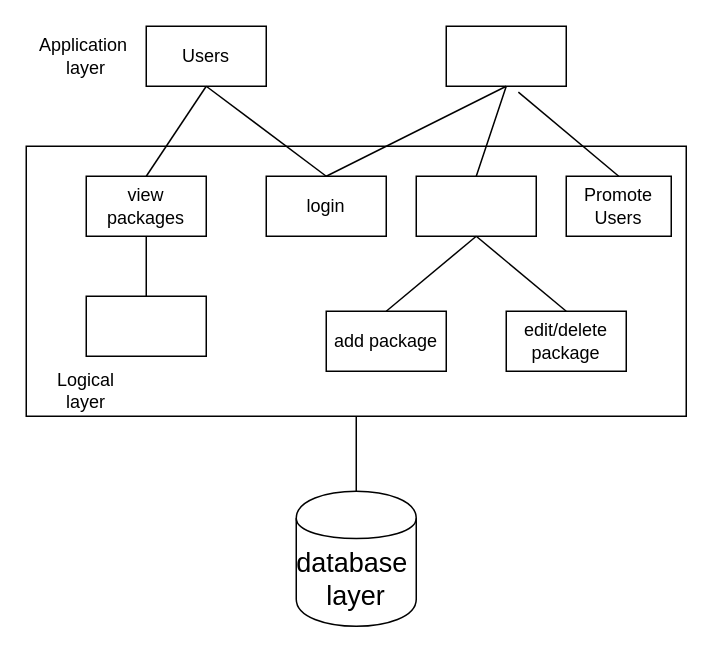
Some shapes in this 713 by 653 pixel diagram are drawn without their labels. The shapes that lost their labels are listed below. From the top down, each one's centre as x and y in pixels, then its label:
At point 505,55: "Admin".
At point 475,205: "manage package".
At point 145,325: "Buy package".
